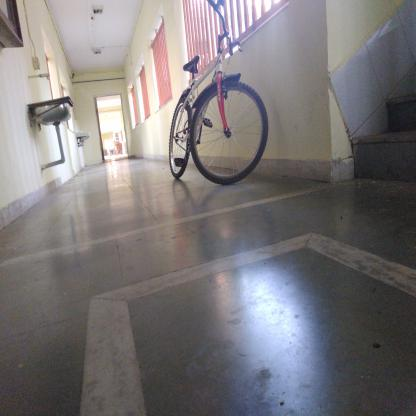stairs: (384, 93, 416, 194)
